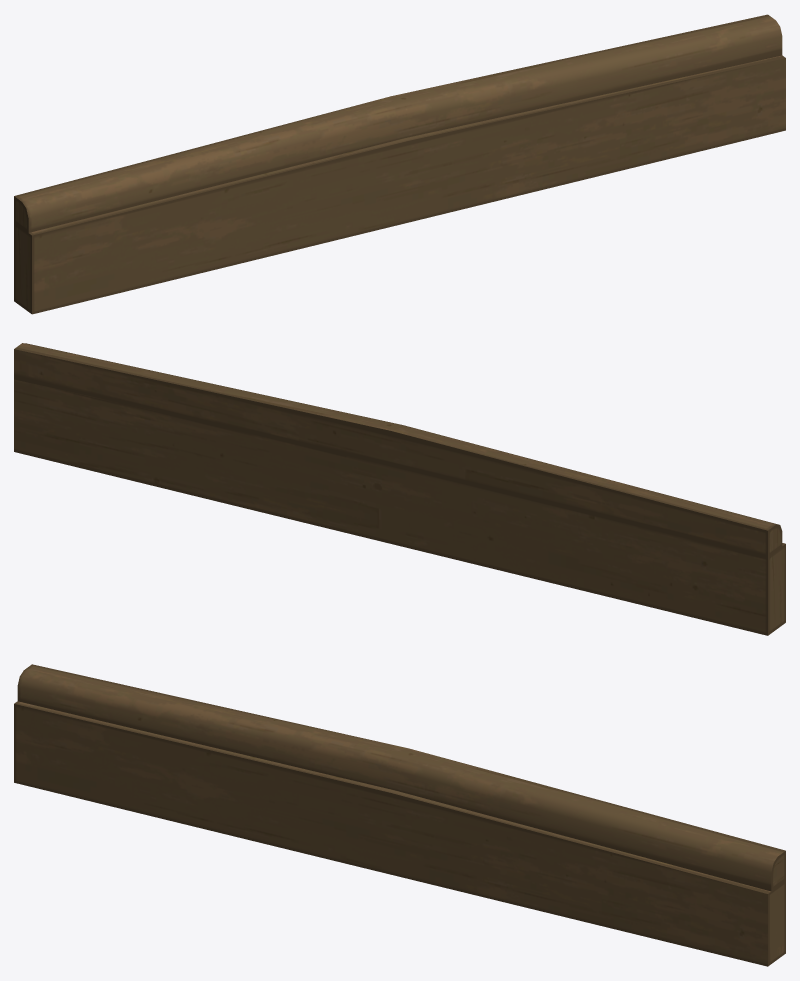
Rendered from SM_plinth_02.glb.
3 views of the same model, one above another, from view 1: azimuth 30°, elevation 25°; view 2: azimuth 150°, elevation 25°; view 3: azimuth 330°, elevation 25° (orthographic).
Visible parts, largest first — view 1: SM_plinth_02; view 2: SM_plinth_02; view 3: SM_plinth_02.
Part boxes in pixels (x1=…): SM_plinth_02: x1=14, y1=14, x2=785, y2=314; SM_plinth_02: x1=14, y1=343, x2=785, y2=635; SM_plinth_02: x1=14, y1=664, x2=785, y2=966.
Size of the model in its own units: 3 by 0.4298 by 0.1245.
1 material, 1 textured.
